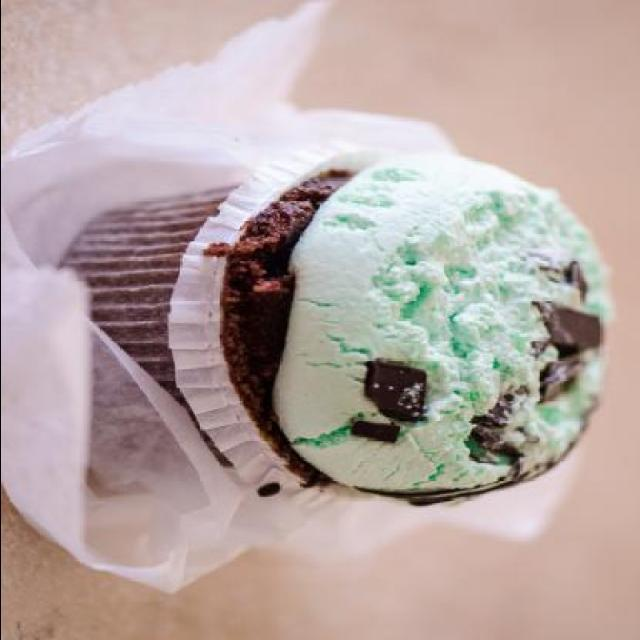Cookie: (58, 138, 620, 512)
